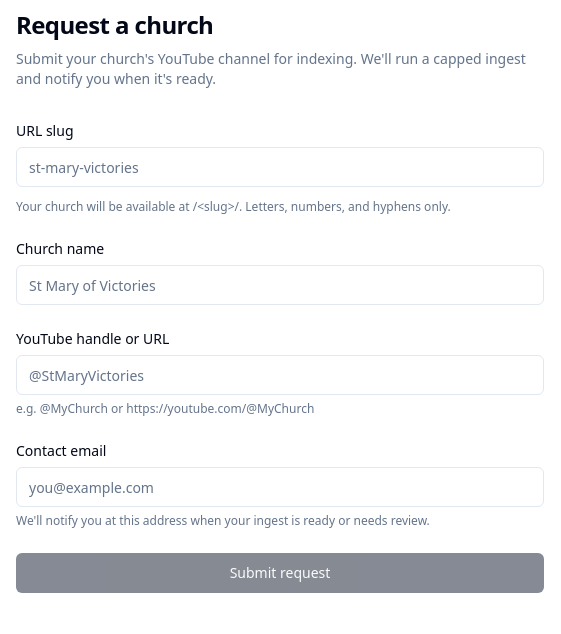
IngestPage › slug availability › shows 'Available' when slug check returns available
The width and height of the screenshot is (561, 634).
Type "my-church" into the field labelled "URL slug".
click(280, 167); type("my-church")  # box [16,147,544,187]
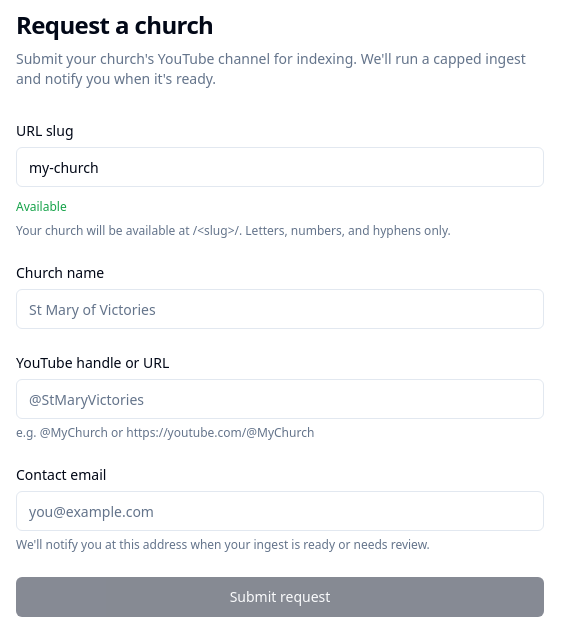
Result: the text "Available" is shown at [16,198,67,215]
